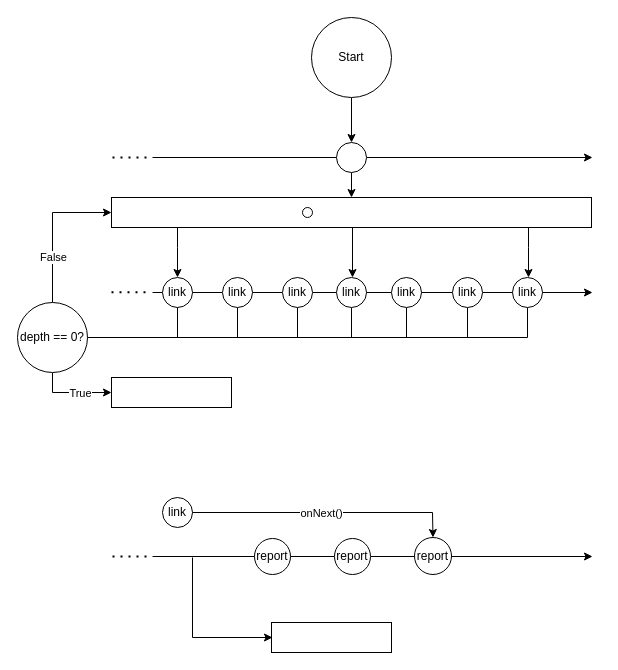
Some shapes in this 618 by 670 pixel diagram are drawn without their labels. The shapes that lost their labels are listed below. From the top down, each one's box as (x1, y1, x2, y2) in pixels, then its label:
(336, 142, 366, 172): root link
(110, 196, 592, 228): Map( -> allLinksFromPage )
(110, 376, 232, 408): Subscribe()
(270, 622, 392, 652): Subscribe(Observer)
